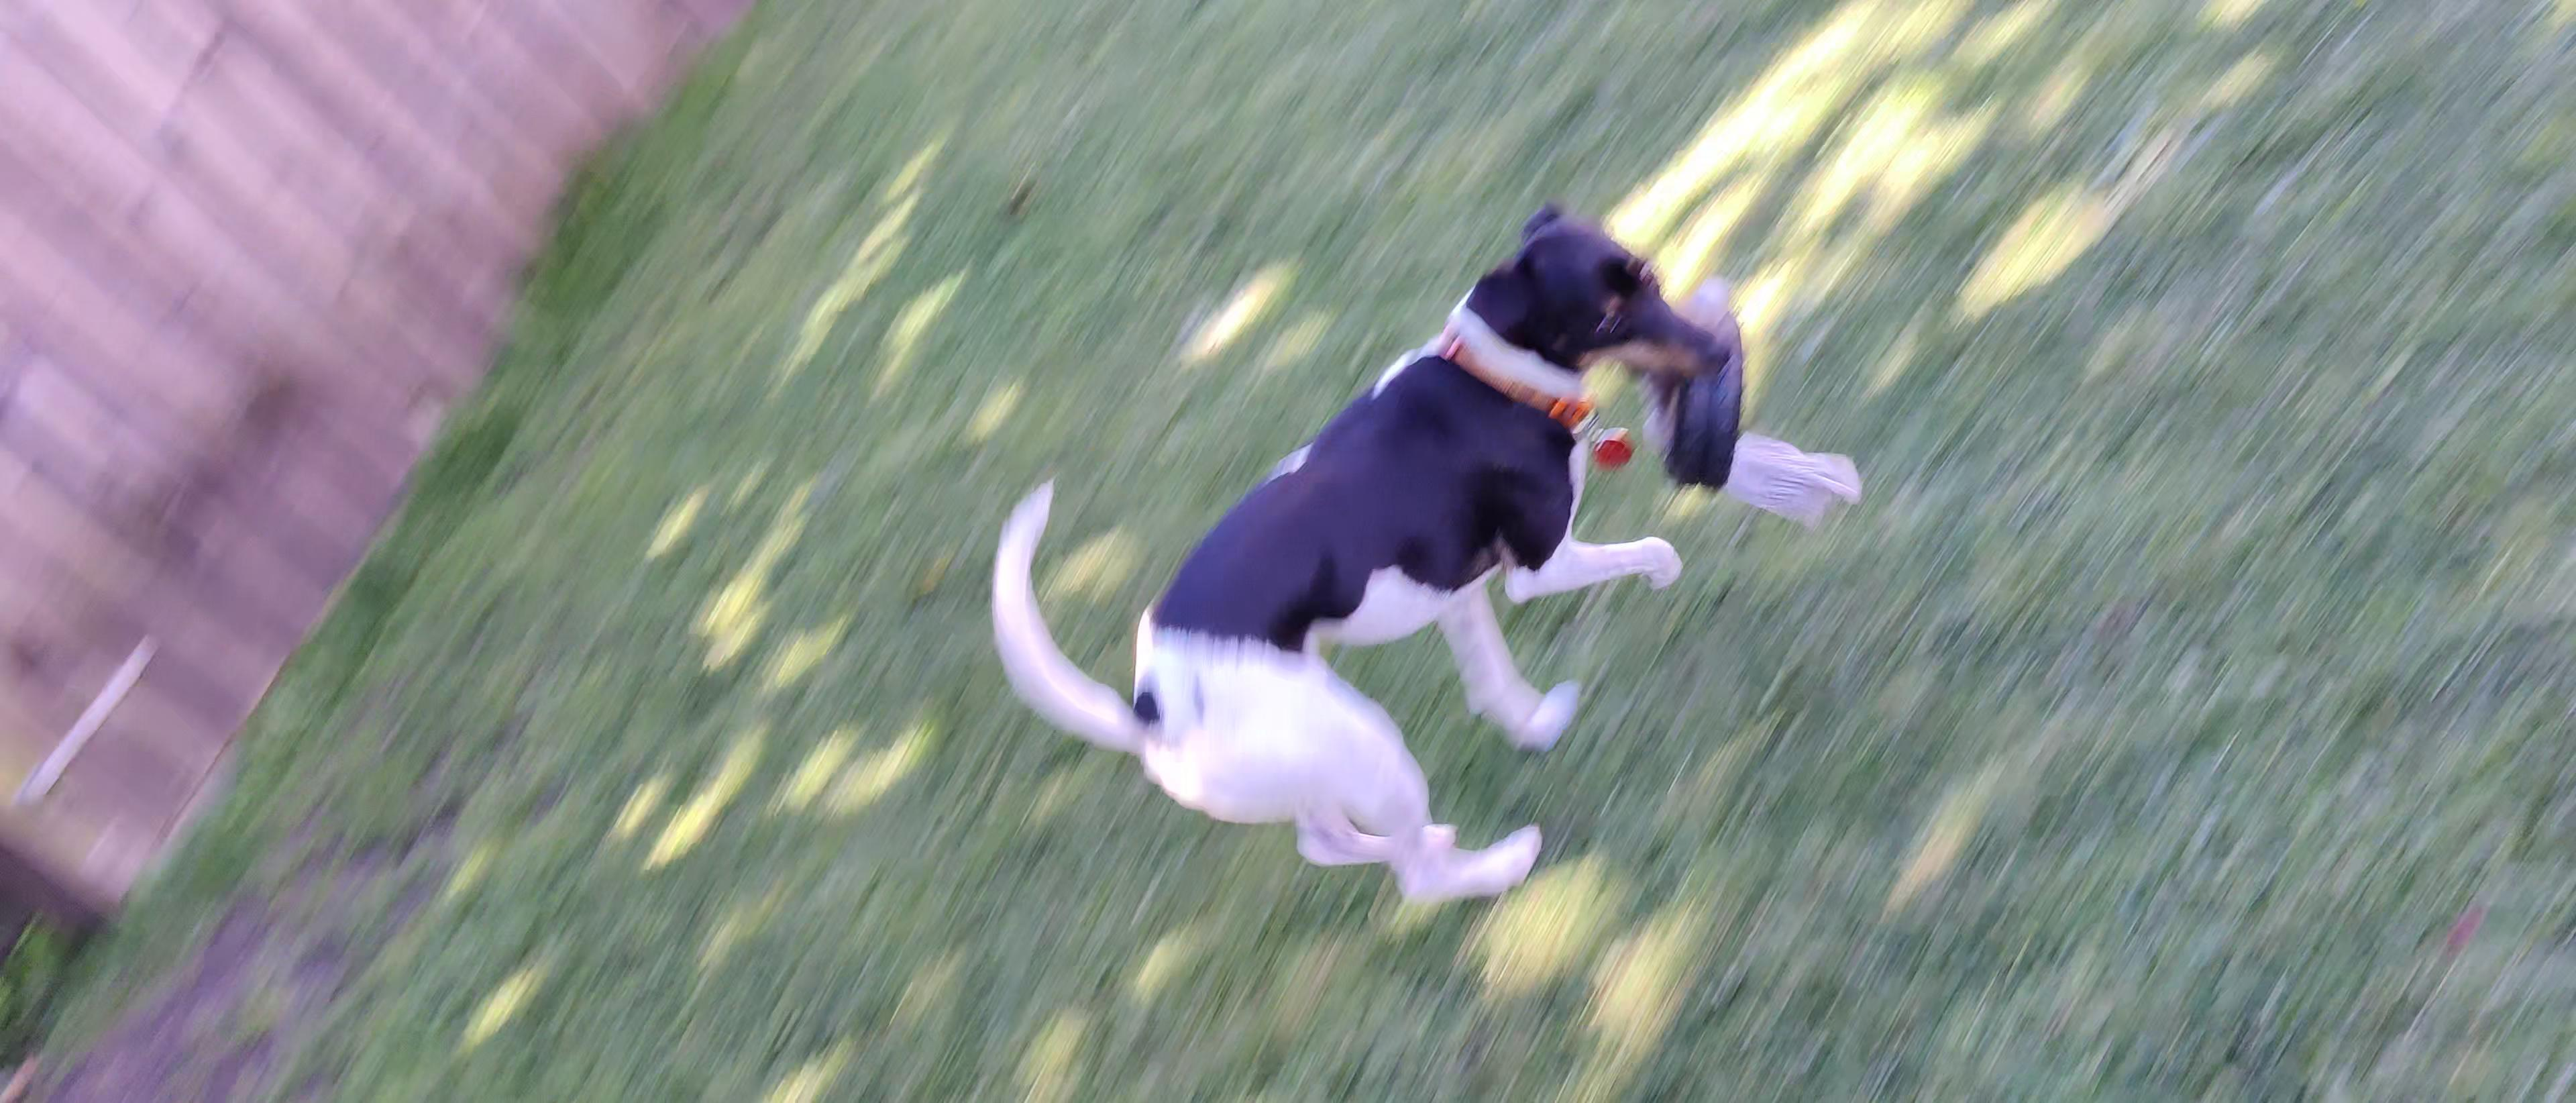Dog: (989, 168, 1732, 911)
